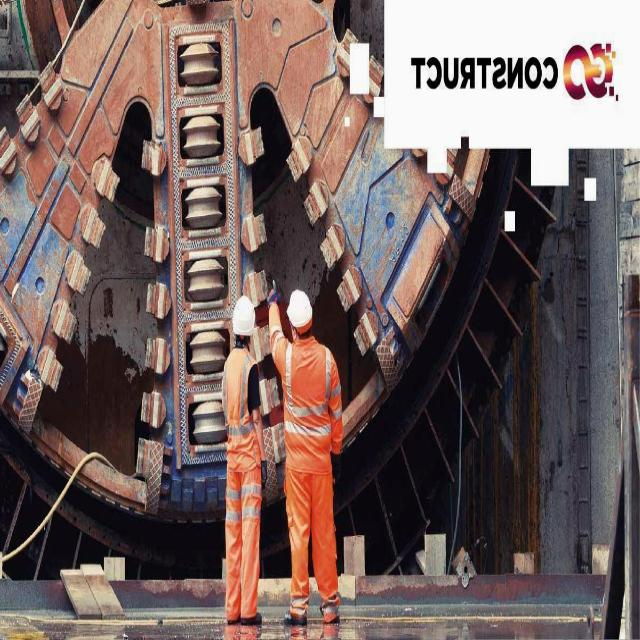hand_glove: (265, 274, 282, 311), (256, 456, 270, 491)
head_helmet: (289, 291, 314, 328), (233, 298, 257, 336)
person: (284, 290, 339, 628), (222, 300, 264, 628)
shoes: (279, 601, 311, 635), (238, 601, 266, 632)
vest: (284, 348, 332, 466), (224, 348, 256, 456)
